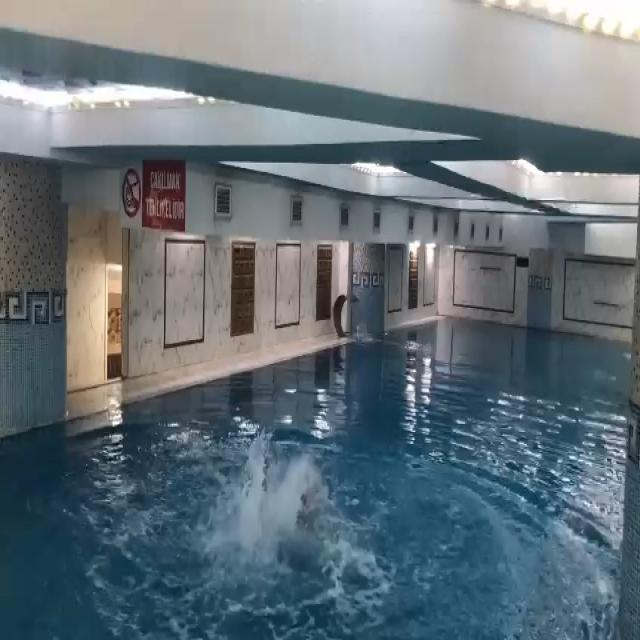Drowning: (231, 459, 329, 564)
